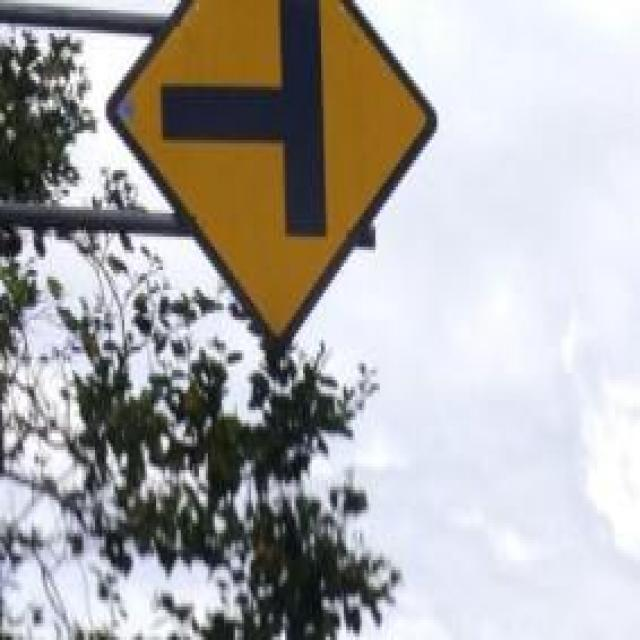traffic sign: (111, 3, 436, 350)
